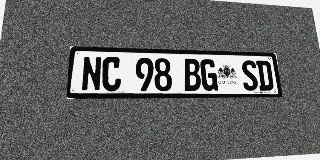8: (154, 58, 172, 91)
9: (136, 57, 154, 91)
B: (183, 59, 201, 91)
C: (101, 57, 121, 91)
D: (256, 60, 274, 91)
G: (200, 59, 218, 91)
N: (81, 56, 102, 91)
S: (241, 60, 259, 91)
